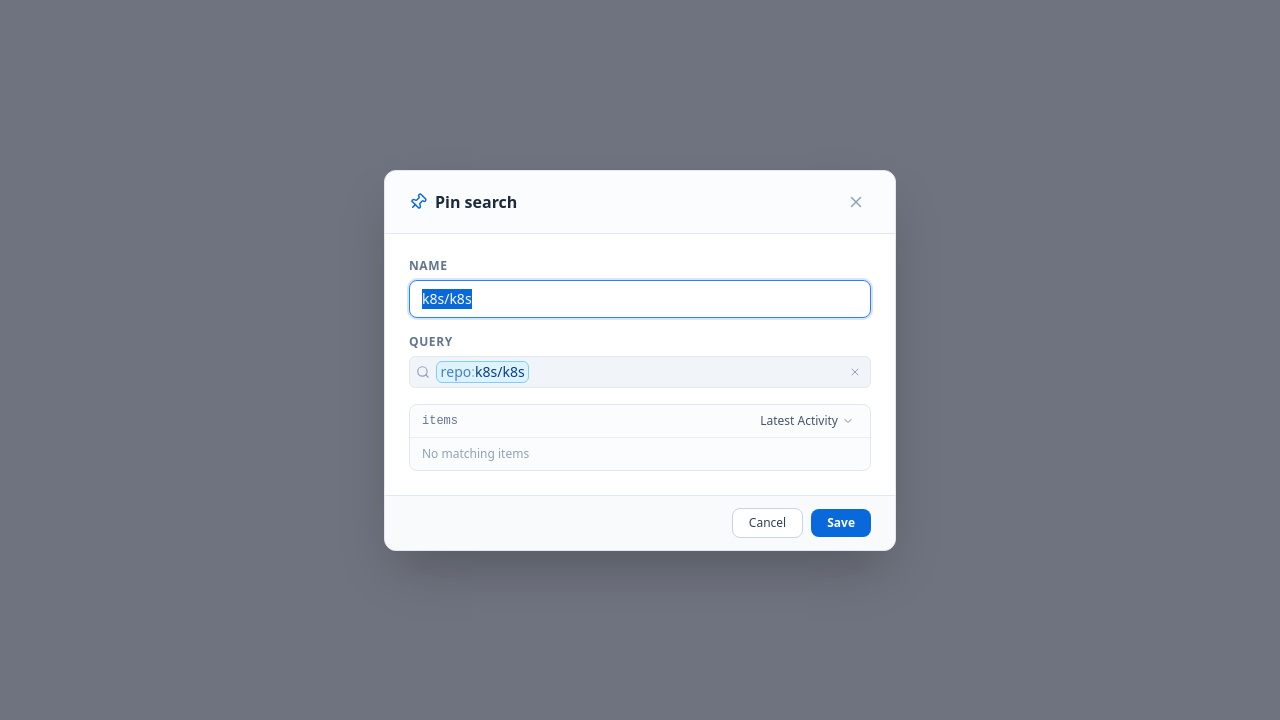
Test case: SaveSearchModal component › renders saved-search-query-error when attempting to submit with parse issues
Step 1. Replace the text in the dropdown with test id "saved-search-query-input" with "label:" → (640, 372), box [410, 356, 870, 386]
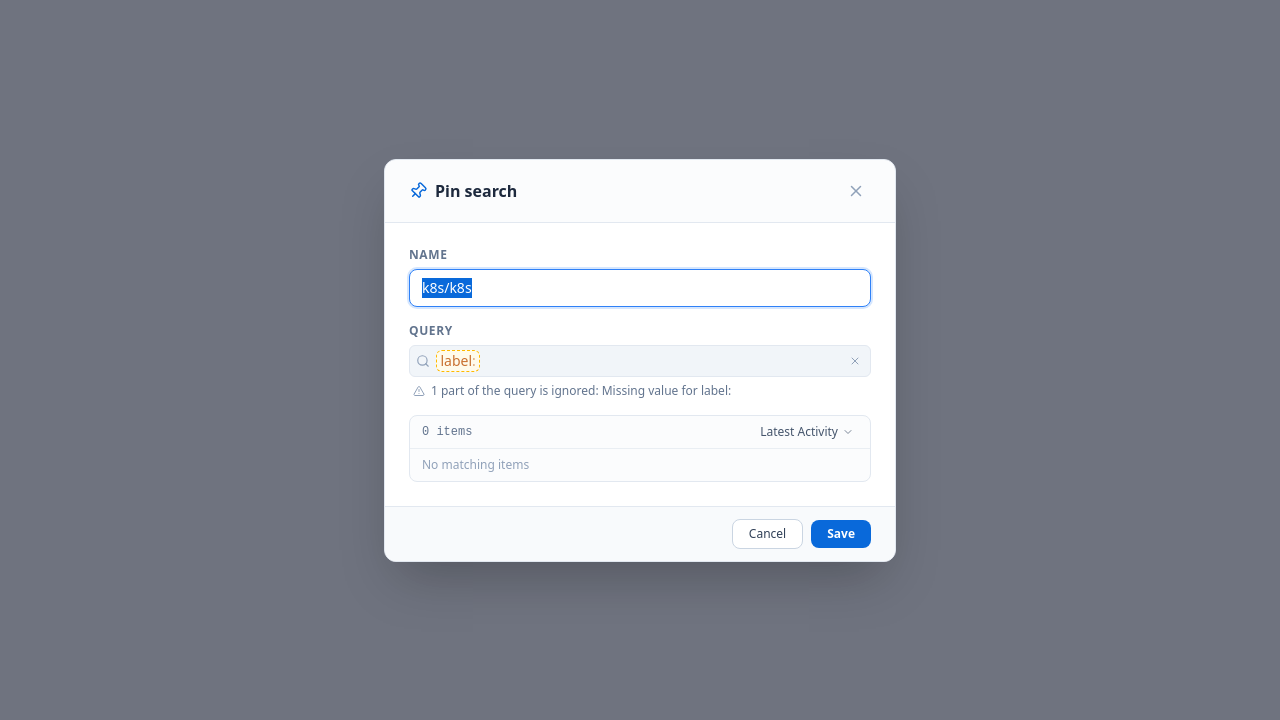
Step 2. Click the button "Save" → (841, 534), box [811, 520, 871, 548]
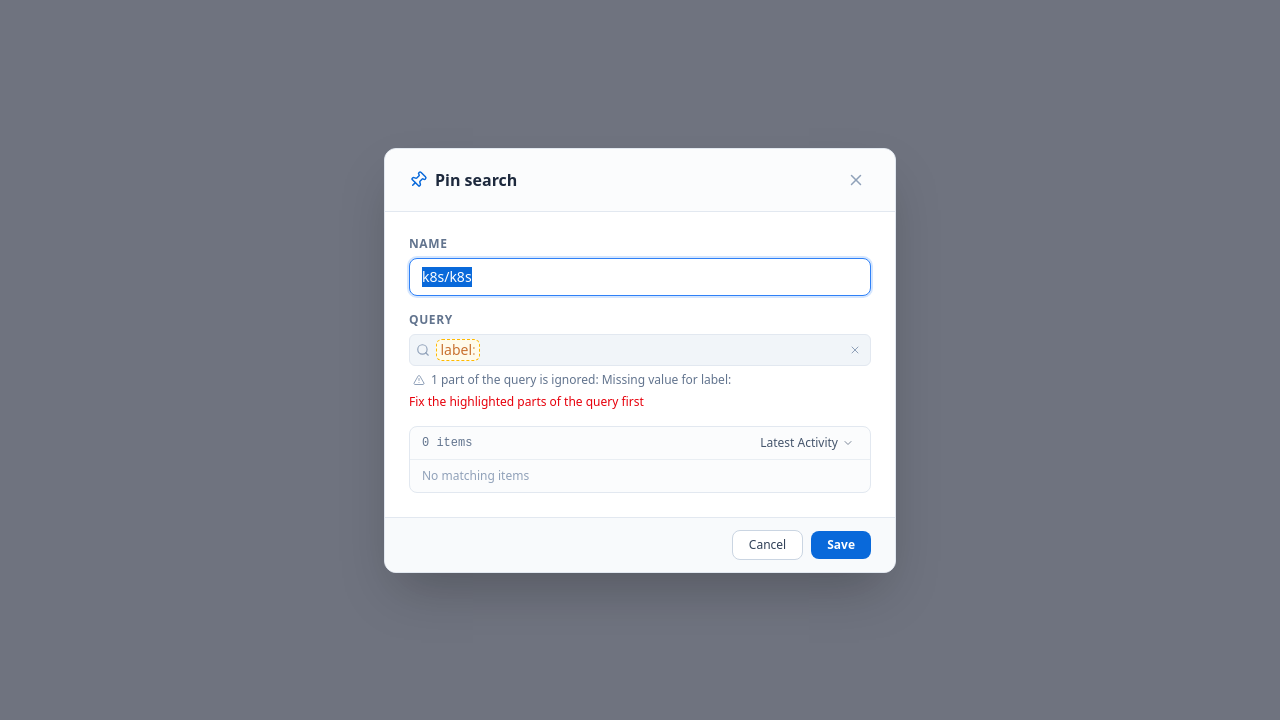
Expected: the message with test id "saved-search-query-error" reads "Fix the highlighted parts of the query first", [409, 392, 644, 410]
